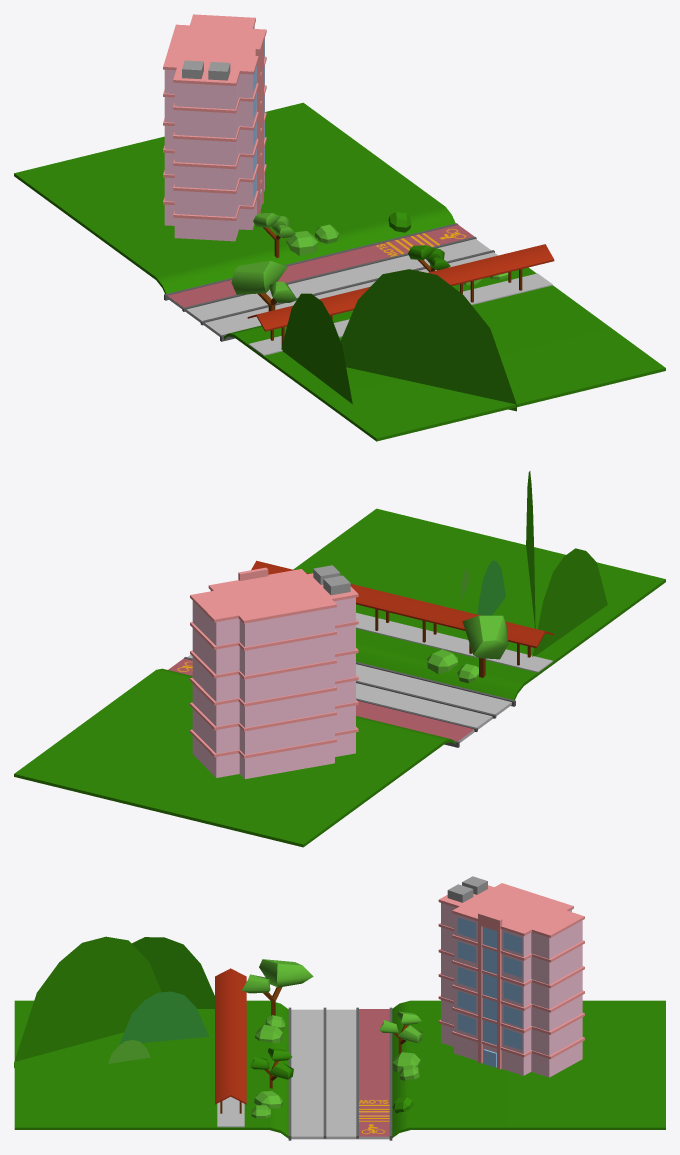
Rendered from Level 2 Chunk 3.fbx.
3 views of the same model, one above another, from view 1: azimuth 30°, elevation 25°; view 2: azimuth 150°, elevation 25°; view 3: azimuth 270°, elevation 25° (orthographic). The views are drawn at different scales.
Parts seen in each view (by area): view 1: pCube7966, pCube7964, Building_C21, pasted__pasted__pCube5553, pCube7967, pasted__pCube5671, pCube7970, pCube7958, pCube7956, pCube7953, pCube7955, pCube7954 (+3 smaller); view 2: Building_C21, pCube7966, pCube7964, pCube7967, pasted__pCube5671, pCube7958, pCube7953, pCube7970, pCube7956, pasted__pasted__pCube5552, pasted__pasted__pCube5553, Bushes197; view 3: Building_C21, pCube7966, pCube7964, pasted__pasted__pCube5553, pCube7967, pCube7958, pCube7970, pasted__pCube5671, pasted__pasted__pCube5552, pCube7956, pCube7955, pCube7954 (+7 smaller).
Boxes of the visible parts, x1,y1,x2,y2 form: pCube7966: [14, 102, 455, 294]; pCube7964: [224, 267, 665, 441]; Building_C21: [163, 14, 266, 241]; pasted__pasted__pCube5553: [340, 269, 516, 411]; pCube7967: [168, 239, 497, 336]; pasted__pCube5671: [281, 293, 352, 403]; pCube7970: [168, 224, 473, 307]; pCube7958: [247, 244, 554, 331]; pCube7956: [231, 260, 297, 311]; pCube7953: [248, 273, 552, 355]; pCube7955: [253, 213, 295, 257]; pCube7954: [408, 245, 450, 272]; Building_C21: [190, 565, 358, 778]; pCube7966: [14, 668, 455, 847]; pCube7964: [293, 508, 665, 700]; pCube7967: [187, 655, 511, 742]; pasted__pCube5671: [532, 548, 607, 656]; pCube7958: [251, 560, 554, 648]; pCube7953: [356, 612, 552, 672]; pCube7970: [168, 658, 473, 740]; pCube7956: [462, 615, 508, 677]; pasted__pasted__pCube5552: [477, 560, 505, 615]; pasted__pasted__pCube5553: [526, 471, 535, 628]; Bushes197: [427, 649, 457, 674]; Building_C21: [438, 876, 584, 1077]; pCube7966: [392, 1000, 665, 1137]; pCube7964: [14, 1000, 288, 1138]; pasted__pasted__pCube5553: [14, 936, 161, 1067]; pCube7967: [291, 1009, 389, 1139]; pCube7958: [215, 968, 246, 1104]; pCube7970: [359, 1009, 389, 1136]; pasted__pCube5671: [132, 937, 214, 1008]; pasted__pasted__pCube5552: [119, 991, 209, 1044]; pCube7956: [241, 959, 313, 1015]; pCube7955: [379, 1011, 422, 1054]; pCube7954: [250, 1048, 293, 1088].
Size of the model in its own units: 12.39 by 7.37 by 26.58.
Materials: 1 (1 with a texture image).
